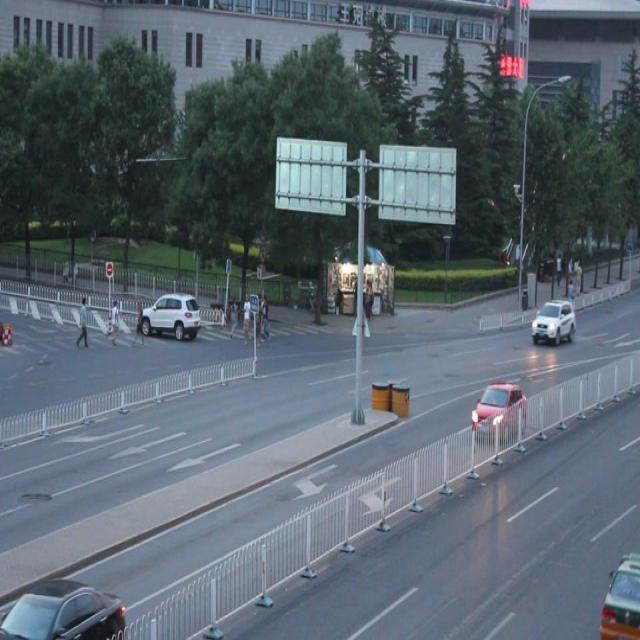car: (0, 573, 125, 640), (598, 547, 640, 640), (471, 381, 528, 436), (139, 292, 201, 339), (531, 300, 574, 346)
